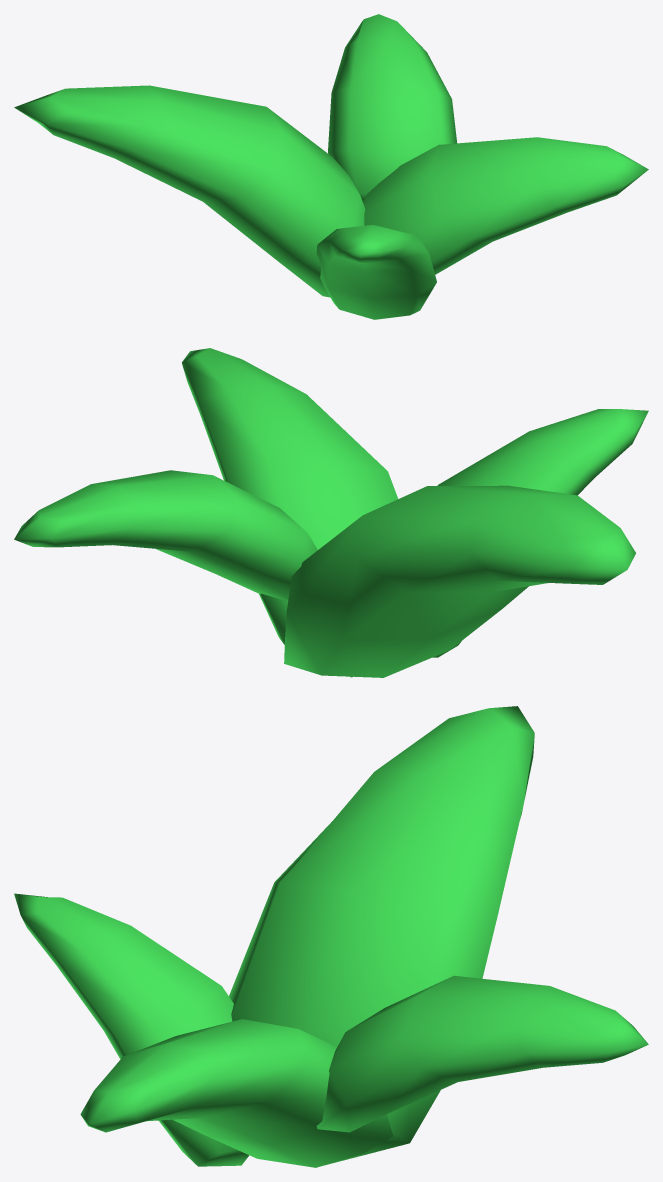
The model's file is grass.fbx.
The picture shows the model from 3 angles, top to bottom: view 1: azimuth 30°, elevation 25°; view 2: azimuth 150°, elevation 25°; view 3: azimuth 270°, elevation 25°; orthographic projection. The views are drawn at different scales.
Parts seen in each view (by area): view 1: grass; view 2: grass; view 3: grass.
Part boxes in pixels (x1=…): grass: x1=14, y1=14, x2=648, y2=319; grass: x1=14, y1=348, x2=648, y2=677; grass: x1=14, y1=706, x2=648, y2=1167.
Size of the model in its own units: 1.22 by 0.5183 by 1.
